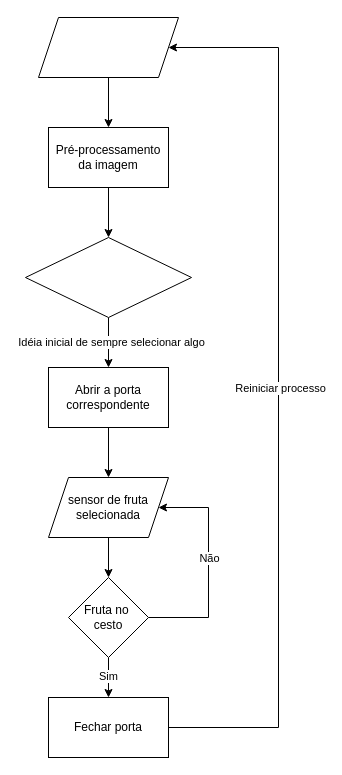
The diagram is 342 pixels wide and 775 high, and some of its shapes have lost their labels. The centre of each missing label's shape, as x and y in pixels:
Leitura da câmera: (x=108, y=47)
Processamento e identificação da fruta: (x=108, y=277)
